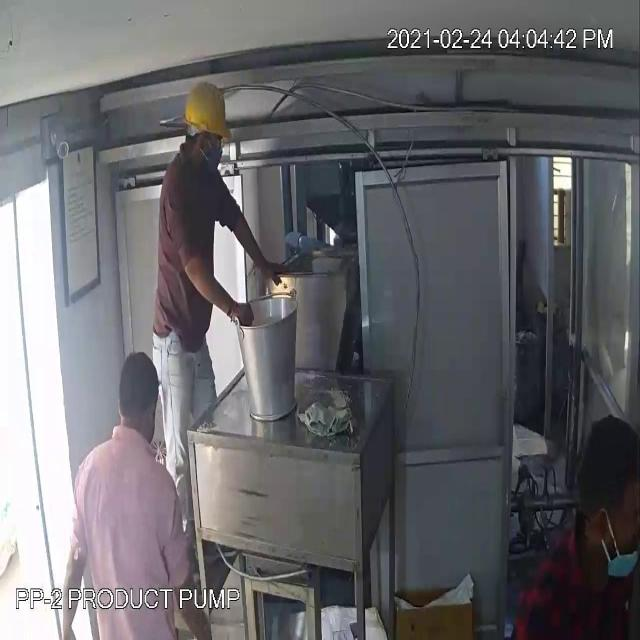helmet: (185, 71, 235, 151)
no-helmet: (114, 342, 160, 430)
